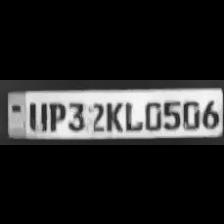0: (142, 96, 162, 130), (180, 97, 200, 129)
2: (89, 99, 106, 131)
3: (64, 99, 86, 131)
5: (160, 96, 180, 130)
6: (200, 97, 220, 129)
K: (102, 98, 122, 132)
L: (122, 97, 142, 130)
P: (44, 99, 64, 131)
U: (24, 98, 42, 130)
